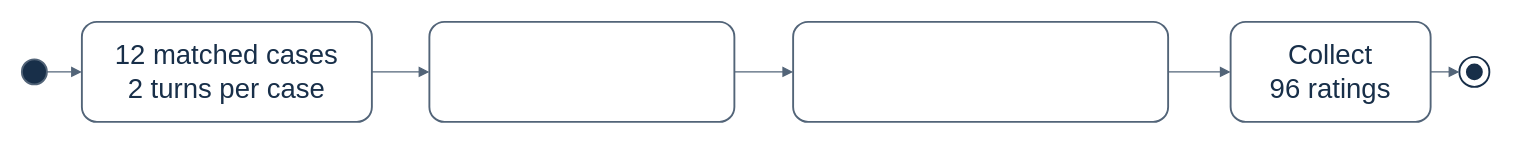
Some shapes in this 1513 by 145 pixel diagram are drawn without their labels. Each missing label, with the centre of its shape:
Review all 48 responses twice with the same judge: point 980,71
Run V4 and V19 24 responses each: point 581,71
